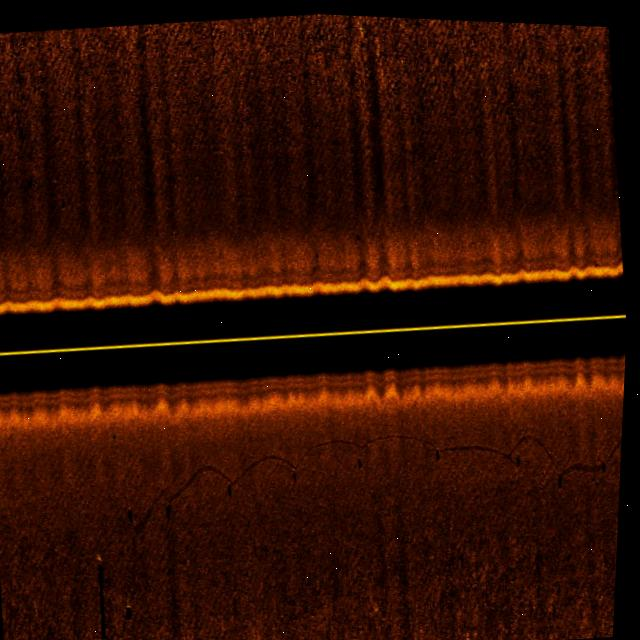mine: (94, 549, 122, 637), (128, 599, 140, 621)
other: (126, 392, 622, 537)
